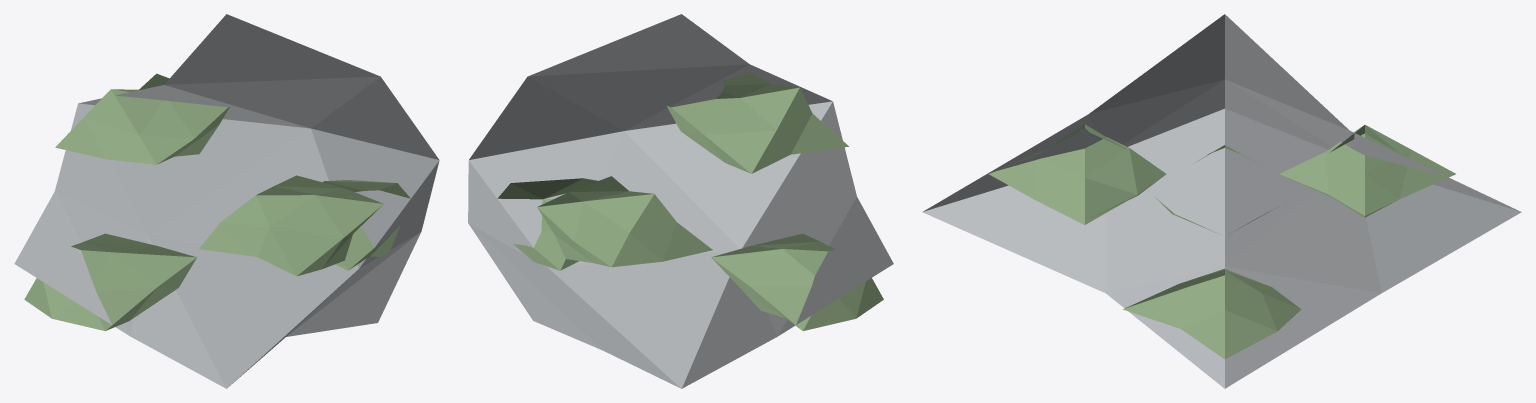
File: moss_rock_v20.glb
3 renders of one model, left to right at view 1: azimuth 30°, elevation 25°; view 2: azimuth 150°, elevation 25°; view 3: azimuth 270°, elevation 25°, orthographic.
Visible parts, largest first — view 1: lod0; view 2: lod0; view 3: lod0.
Boxes of the visible parts, bbox=[...] form: lod0: bbox=[14, 14, 439, 388]; lod0: bbox=[468, 14, 893, 388]; lod0: bbox=[922, 14, 1521, 388].
Size of what is drawn, in the model's own units: 0.6137 by 0.5171 by 0.7496.
